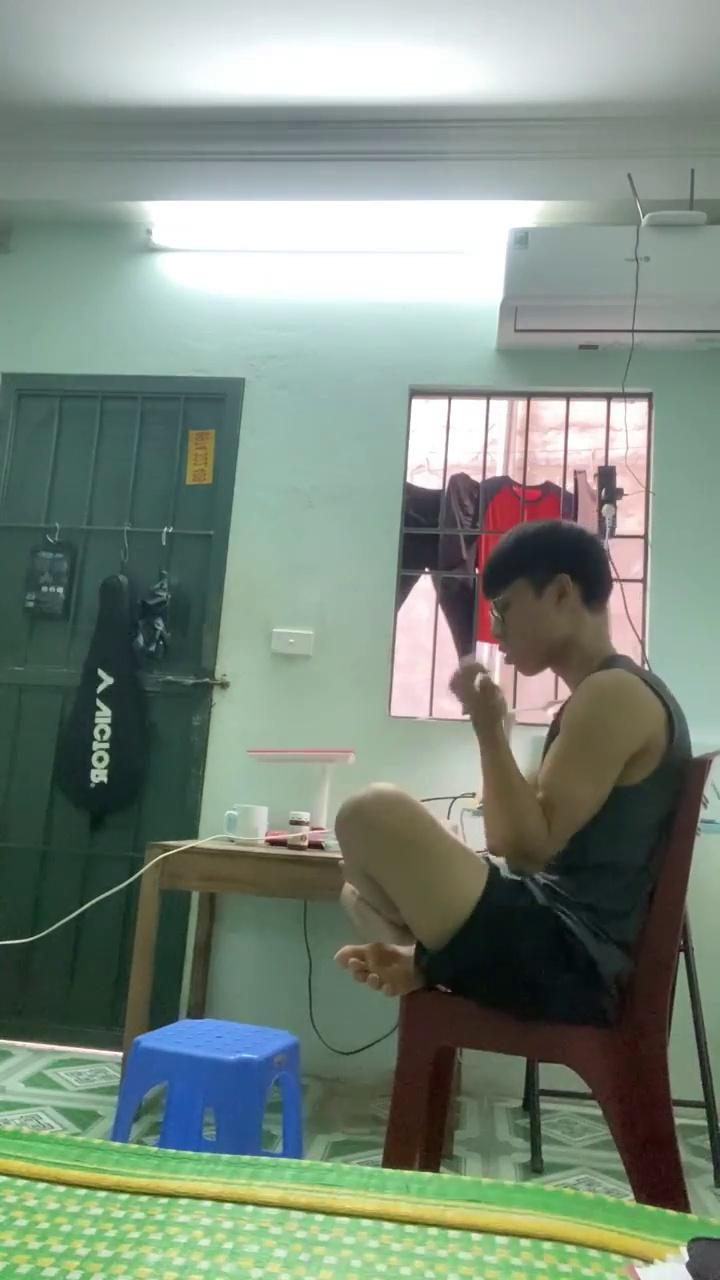BadPosture: (336, 787, 613, 1026)
